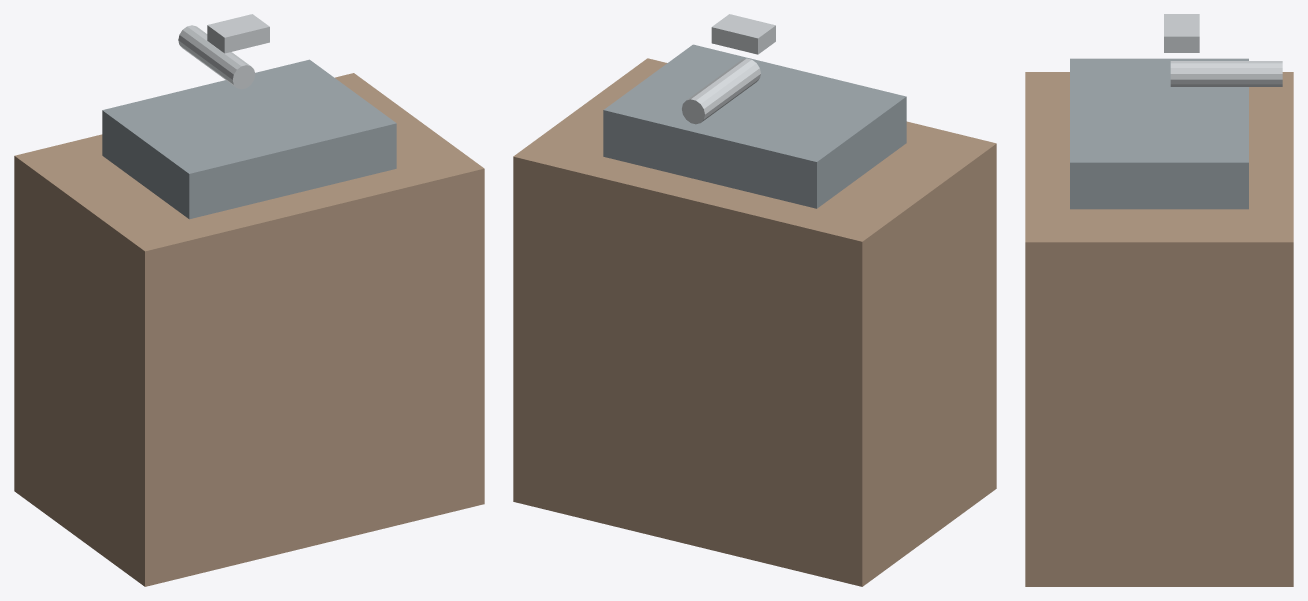
Rendered from kitchen_sink.glb.
The picture shows the model from 3 angles, left to right: view 1: azimuth 30°, elevation 25°; view 2: azimuth 150°, elevation 25°; view 3: azimuth 270°, elevation 25°; orthographic projection. The views are drawn at different scales.
Visible parts, largest first — view 1: p000, p001, p003, p004; view 2: p000, p001, p003, p004; view 3: p000, p001, p003, p004.
Part boxes in pixels (x1,y1,x2,y2): p000: [14, 73, 484, 586]; p001: [102, 59, 396, 219]; p003: [178, 25, 255, 89]; p004: [207, 14, 269, 53]; p000: [513, 58, 996, 586]; p001: [603, 44, 906, 208]; p003: [682, 58, 760, 124]; p004: [711, 14, 775, 54]; p000: [1025, 72, 1293, 586]; p001: [1070, 58, 1248, 209]; p003: [1170, 61, 1282, 86]; p004: [1164, 14, 1199, 52].
Bounding box in the file's own units: 0.9 × 1.17 × 0.6.
